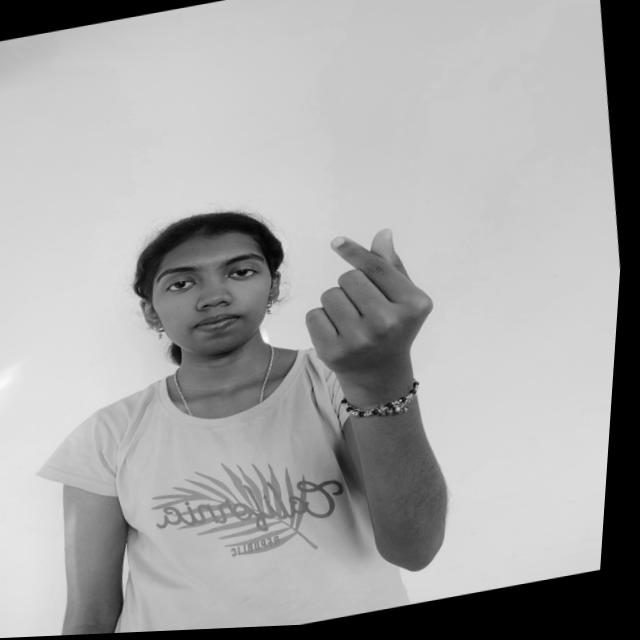Grattitude: (289, 211, 459, 408)
